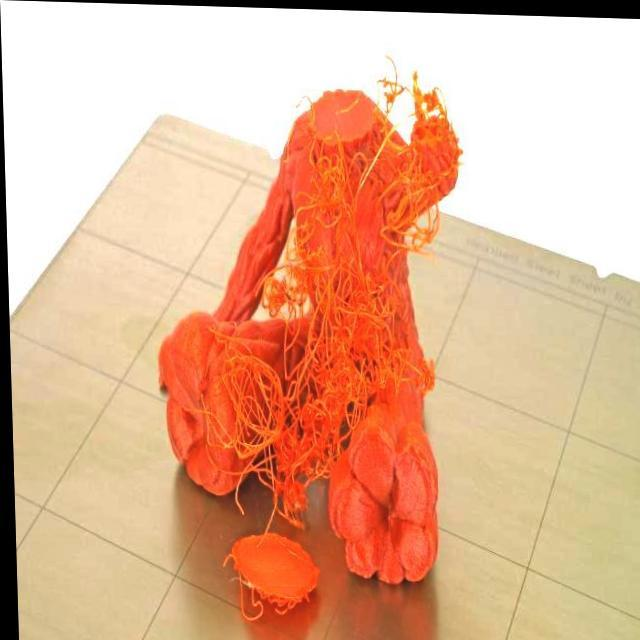spaghetti: (278, 120, 434, 413), (210, 289, 346, 540), (406, 78, 474, 280)
